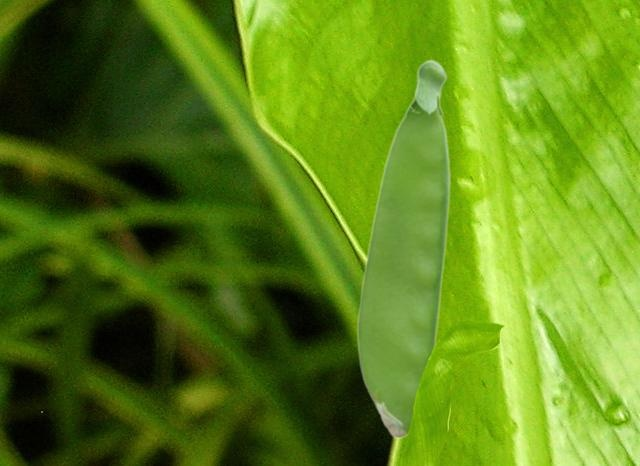pea: (356, 58, 450, 438)
